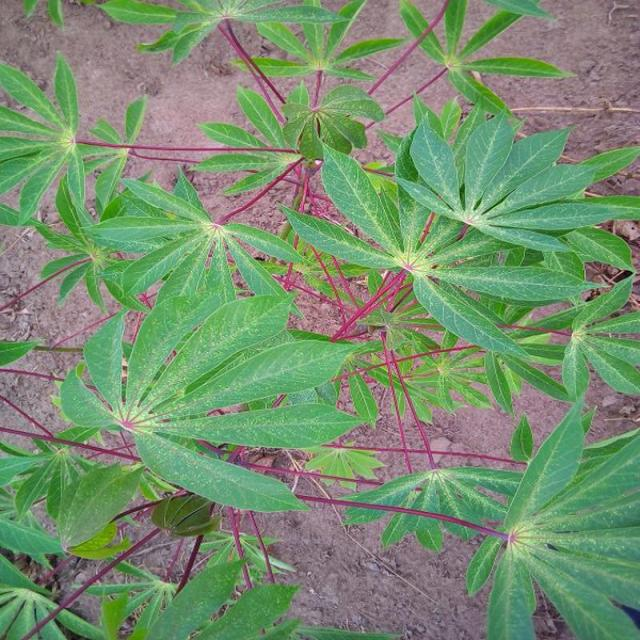cassava leaf: (2, 2, 640, 637), (58, 270, 369, 519), (466, 397, 640, 638)
